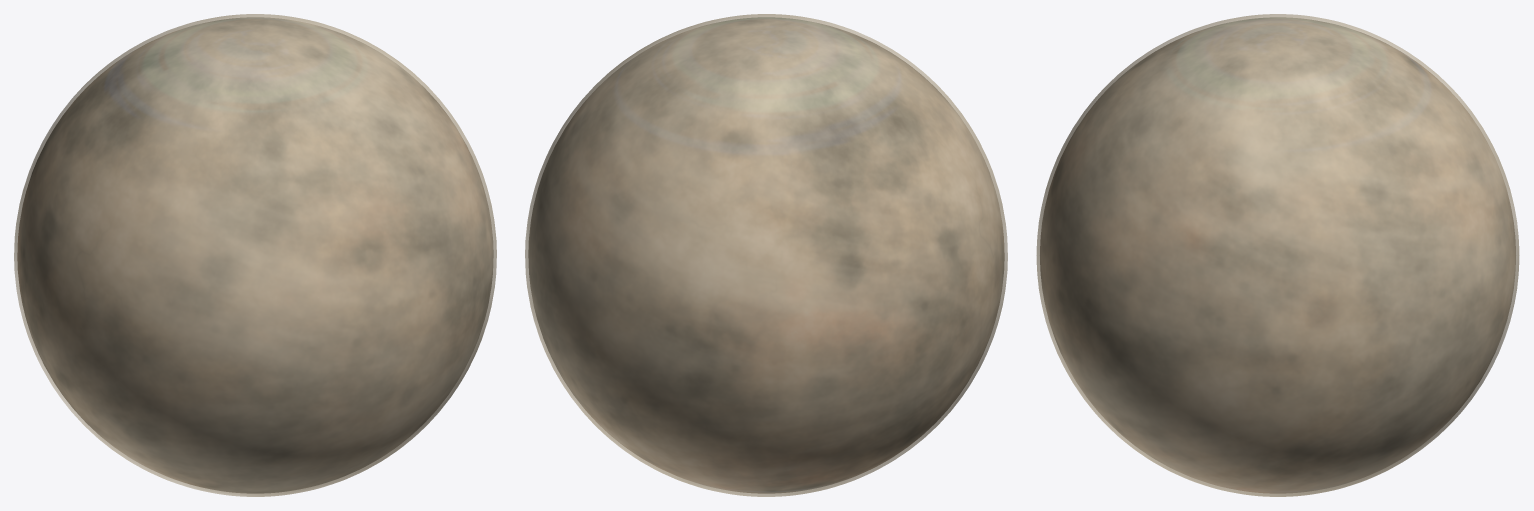
The model's file is kepler_10_c.glb.
3 views of the same model, side by side, from view 1: azimuth 30°, elevation 25°; view 2: azimuth 150°, elevation 25°; view 3: azimuth 270°, elevation 25° (orthographic).
Parts seen in each view (by area): view 1: Nubes, Esfera; view 2: Nubes, Esfera; view 3: Nubes, Esfera.
Boxes of the visible parts, x1,y1,x2,y2 form: Nubes: (14, 14, 496, 496); Esfera: (17, 17, 493, 493); Nubes: (525, 14, 1007, 496); Esfera: (528, 17, 1004, 493); Nubes: (1036, 14, 1519, 496); Esfera: (1040, 17, 1515, 493).
Bounding box in the file's own units: 2028 × 2028 × 2028.
Materials: 2 (2 with a texture image).
